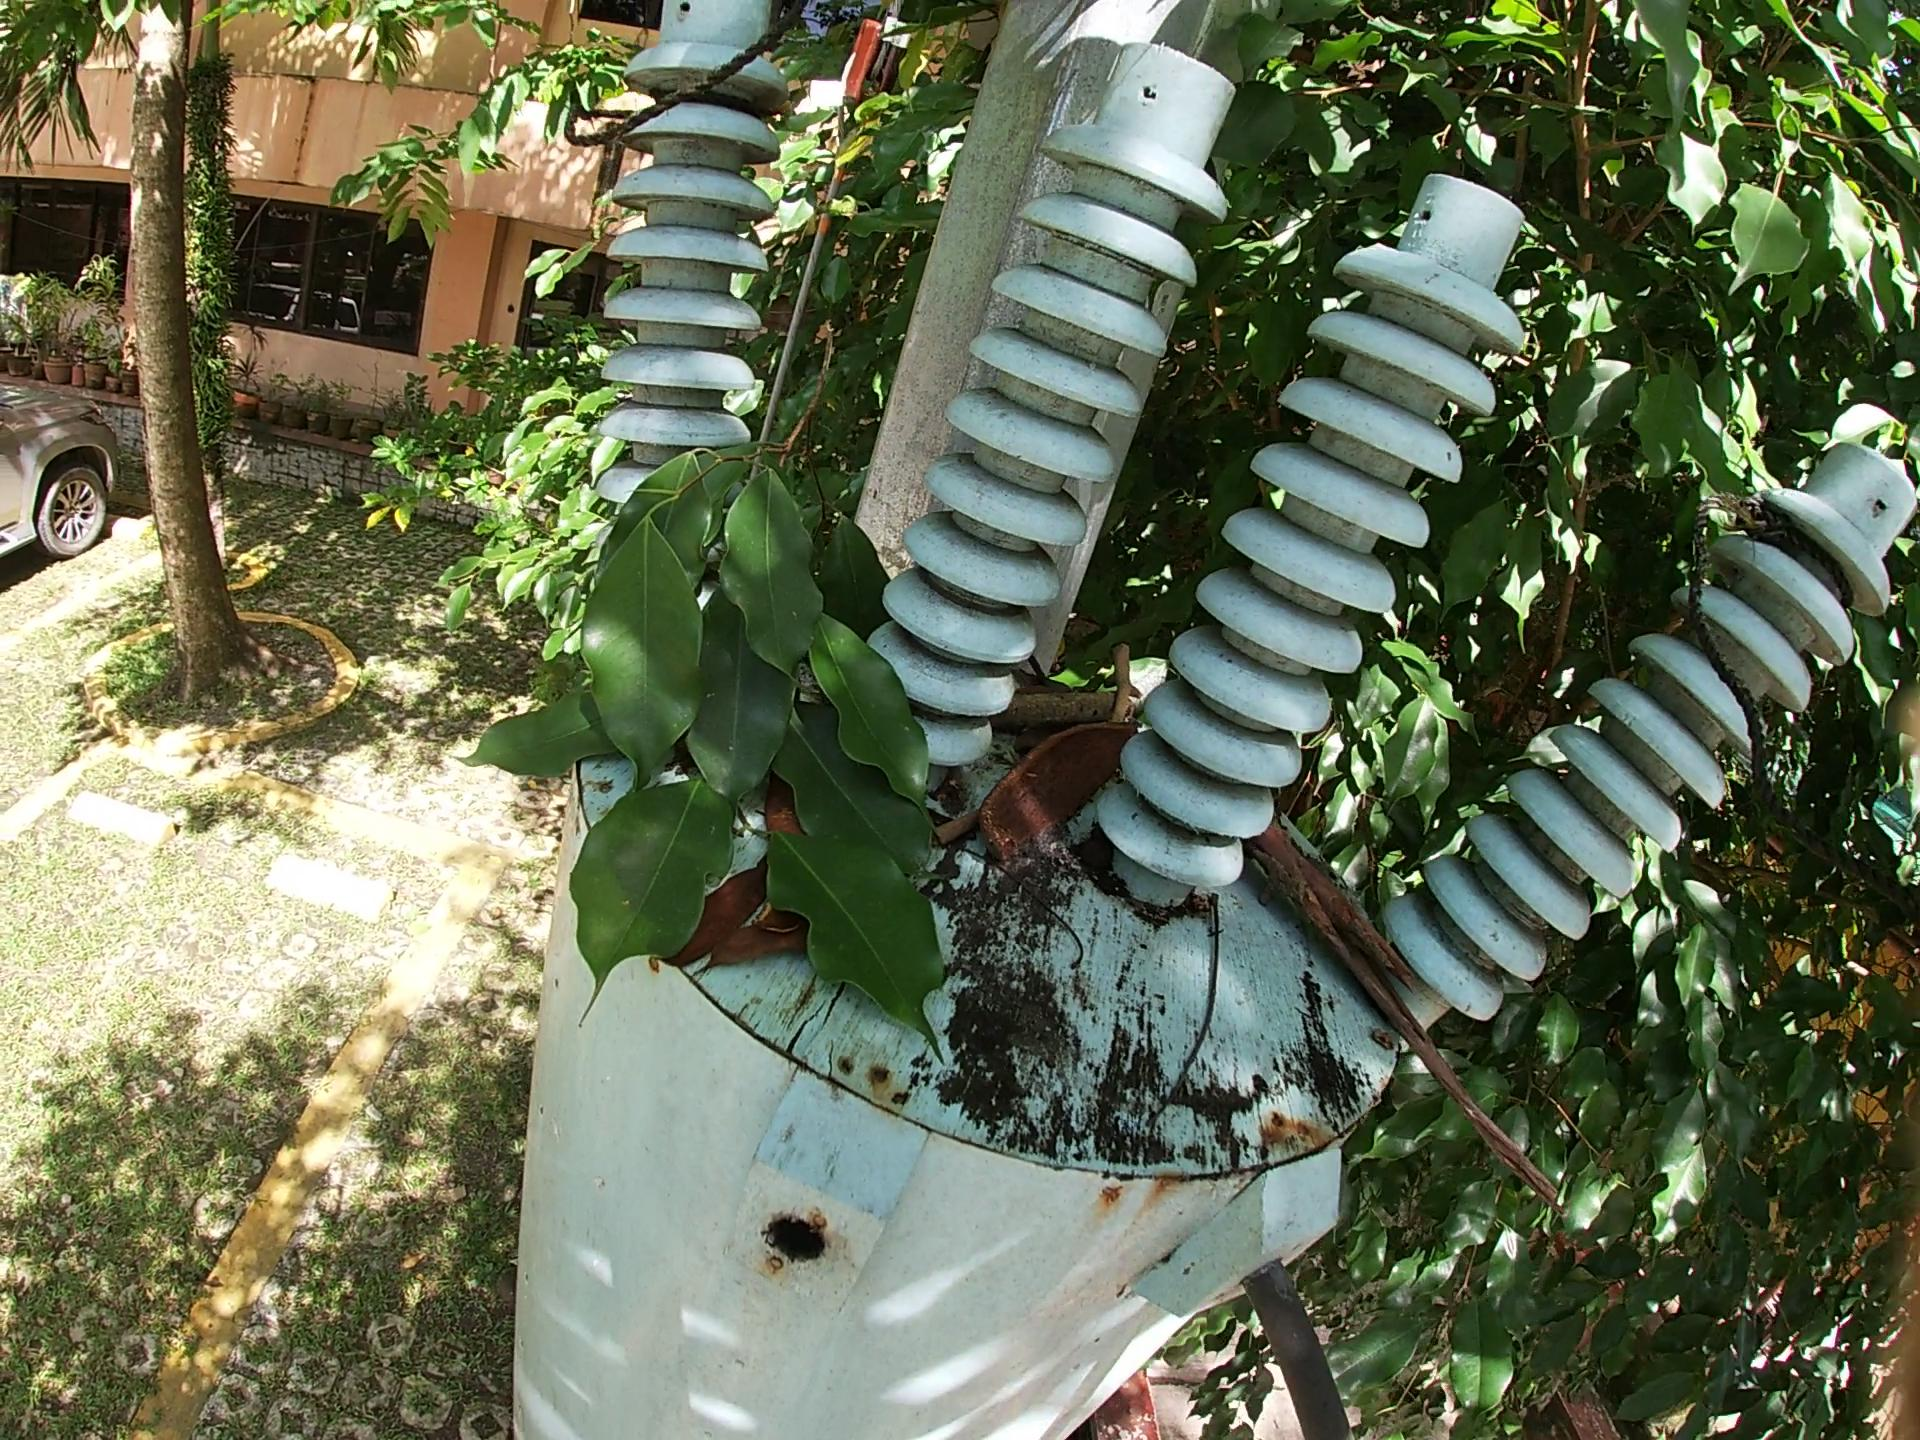branch with leaves: (447, 331, 958, 1074)
mahogany fruit: (974, 717, 1157, 867), (656, 864, 835, 982), (759, 767, 804, 843)
tree branch: (1243, 802, 1578, 1222), (1140, 874, 1225, 1142), (955, 846, 1089, 973), (987, 687, 1122, 722), (1104, 637, 1129, 746)
